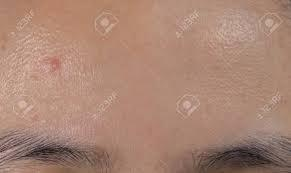Oily-Skin: (11, 16, 238, 117)
acne marks: (40, 56, 66, 80)
